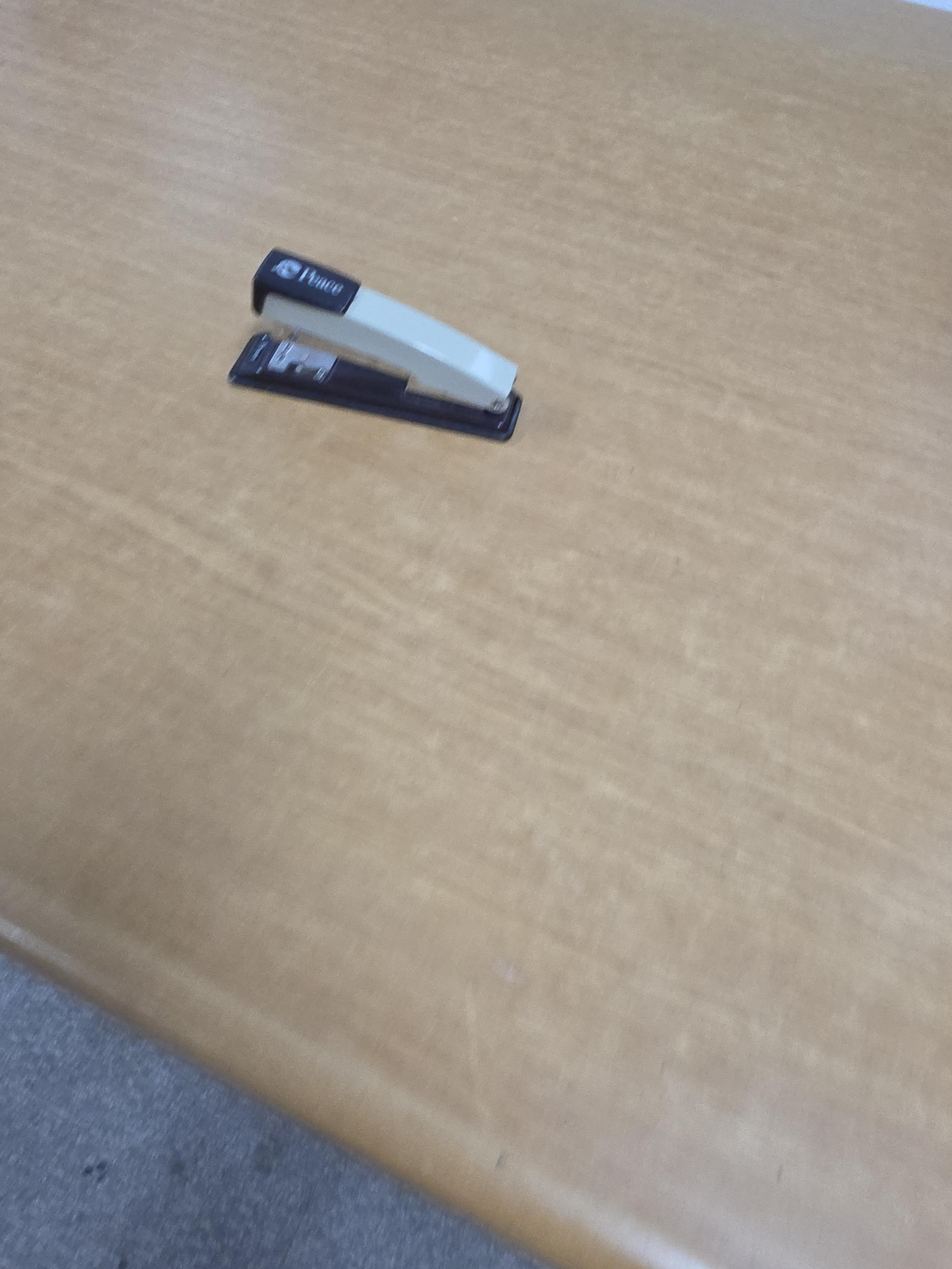stapler: (229, 244, 523, 442)
